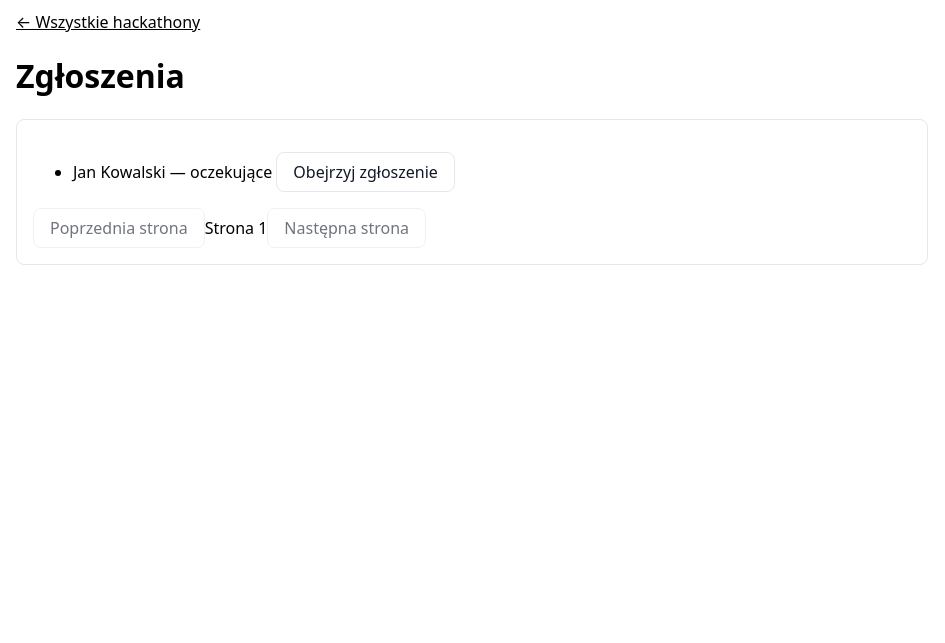
Test case: ManageRegistrationsPage › accepts the selected registration on the same page
Click the button "Obejrzyj zgłoszenie" at {"x": 366, "y": 172}, box [276,152,455,192]
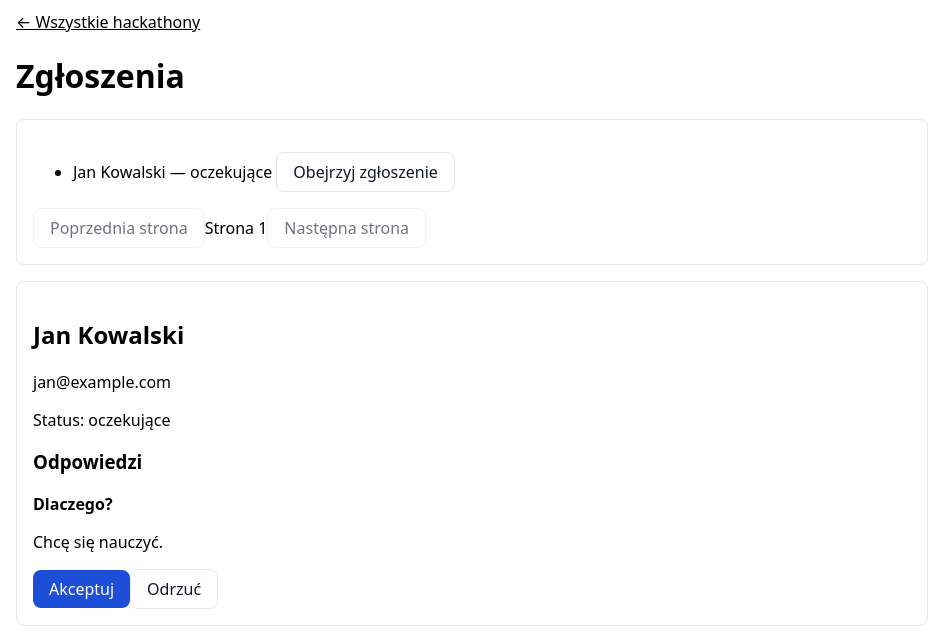
Click the button "Akceptuj" at {"x": 82, "y": 589}, box [33,570,130,608]
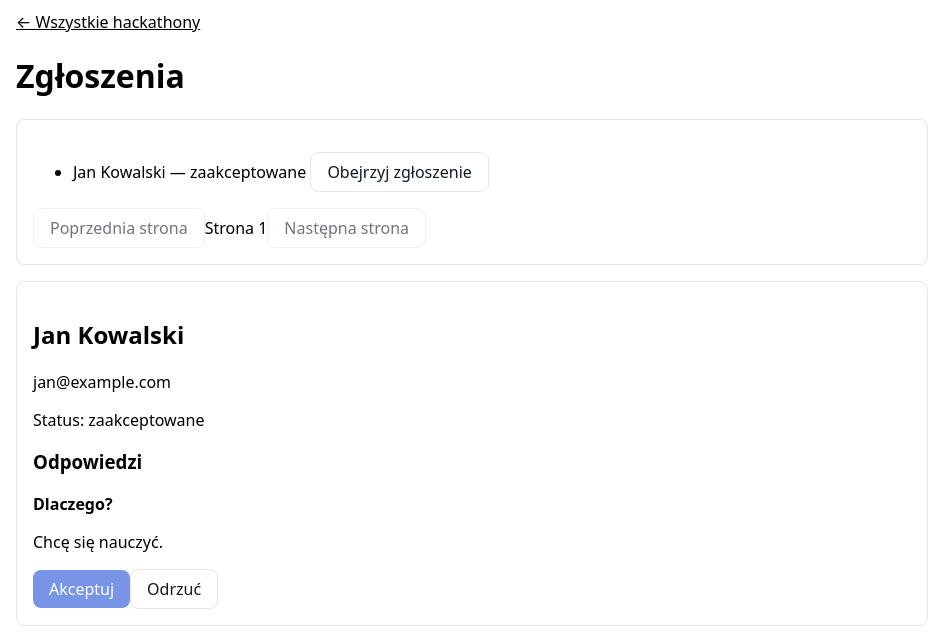
expect the text "Status: zaakceptowane" is shown: met, box [33,409,204,431]
